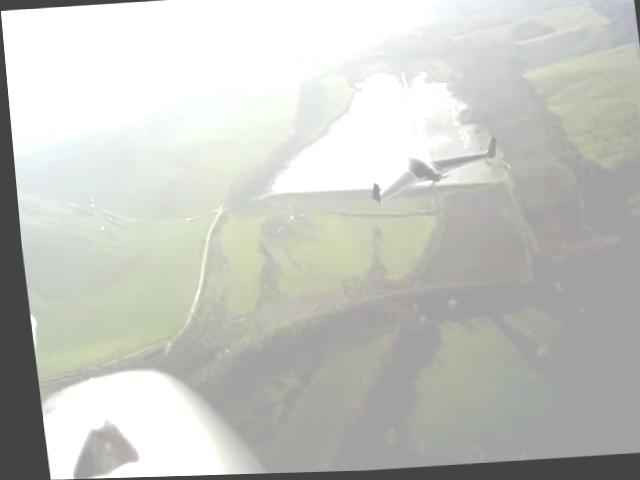iha: (365, 138, 506, 205)
